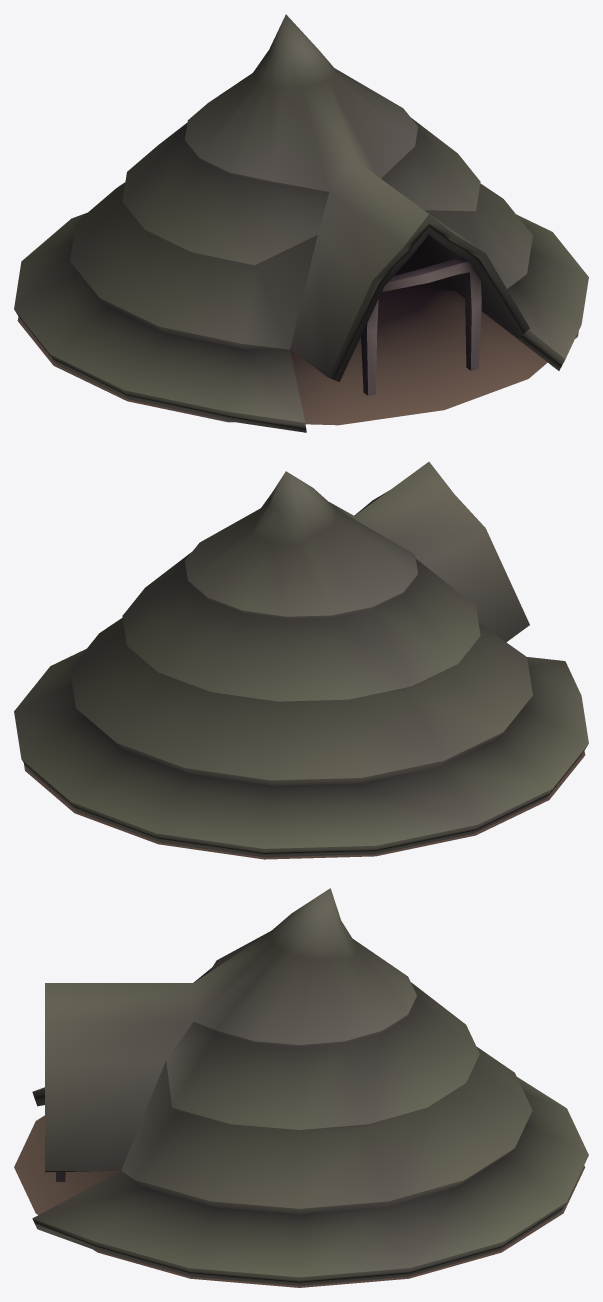
3 views of the same model, one above another, from view 1: azimuth 30°, elevation 25°; view 2: azimuth 150°, elevation 25°; view 3: azimuth 270°, elevation 25° (orthographic).
Parts seen in each view (by area): view 1: base.237; view 2: base.237; view 3: base.237.
Boxes of the visible parts, bbox=[...] form: base.237: bbox=[14, 14, 588, 432]; base.237: bbox=[14, 461, 588, 859]; base.237: bbox=[14, 888, 588, 1287].
Size of the model in its own units: 0.5 by 0.2668 by 0.4968.
